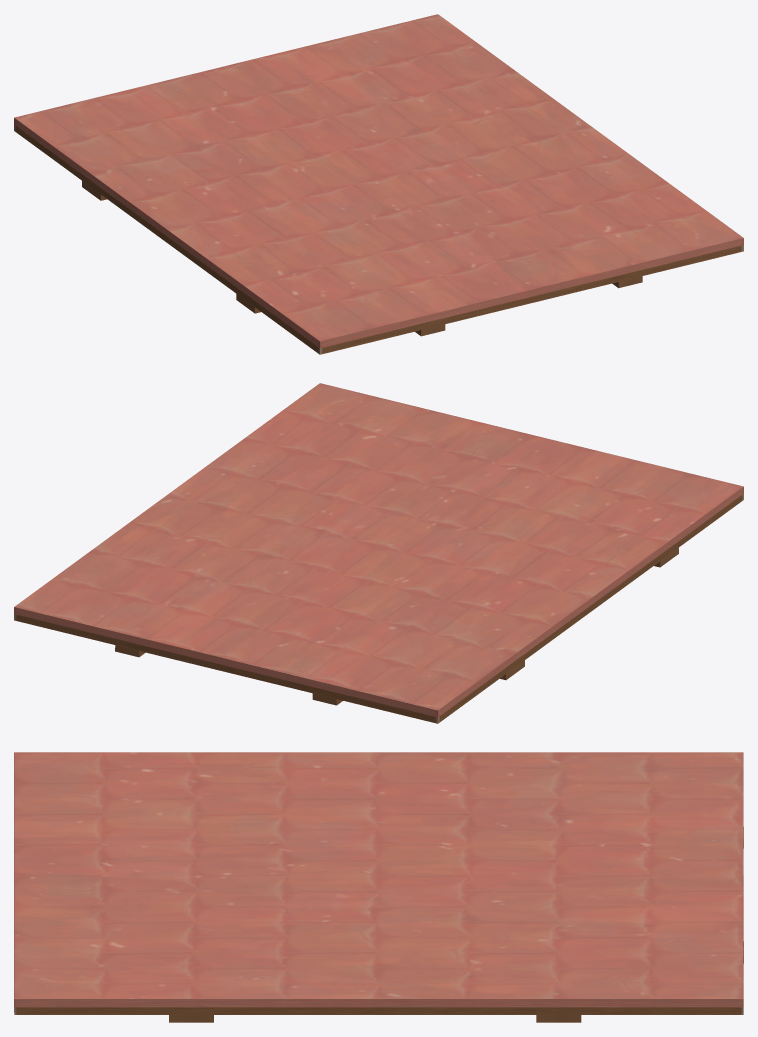
Rendered from sm_building_wapian03_01.FBX.
3 views of the same model, one above another, from view 1: azimuth 30°, elevation 25°; view 2: azimuth 150°, elevation 25°; view 3: azimuth 270°, elevation 25° (orthographic). The views are drawn at different scales.
Parts seen in each view (by area): view 1: Cube_12.007, Cube_12.008 (×2); view 2: Cube_12.007, Cube_12.008 (×2); view 3: Cube_12.007, Cube_12.008 (×2).
Boxes of the visible parts, <box> form: Cube_12.007: <box>14,14,743,348</box>; Cube_12.008 (×2): <box>14,124,743,354</box>; Cube_12.007: <box>14,383,743,717</box>; Cube_12.008 (×2): <box>14,493,743,723</box>; Cube_12.007: <box>14,752,743,1007</box>; Cube_12.008 (×2): <box>14,827,743,1022</box>.
Bounding box in the file's own units: 512 × 22.71 × 640.
Materials: 1 (1 with a texture image).
